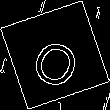O_NE: (24, 22, 86, 88)
